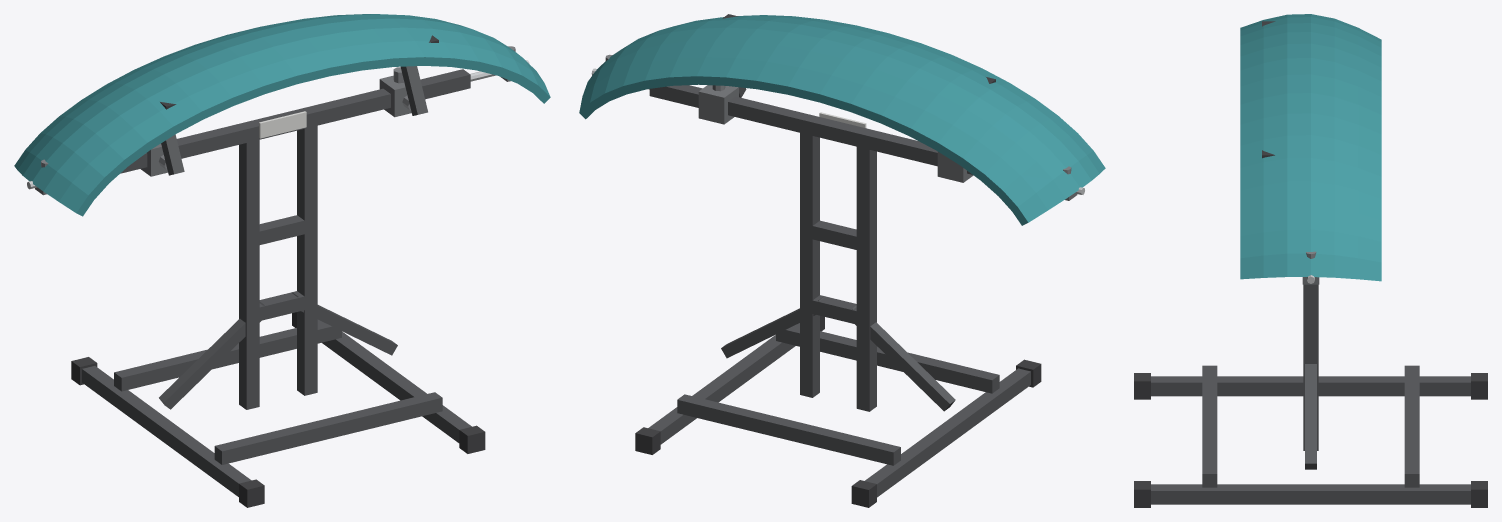
File: jig_bumper3.glb
The picture shows the model from 3 angles, left to right: view 1: azimuth 30°, elevation 25°; view 2: azimuth 150°, elevation 25°; view 3: azimuth 270°, elevation 25°; orthographic projection. The views are drawn at different scales.
Visible parts, largest first — view 1: part_31, part_8, part_9, part_14, part_7, part_0, part_6, part_3, part_12, part_13, part_11, part_10 (+6 smaller); view 2: part_31, part_8, part_14, part_9, part_6, part_0, part_7, part_3, part_12, part_13, part_21, part_11 (+4 smaller); view 3: part_31, part_3, part_0, part_6, part_7, part_9, part_13, part_1, part_2, part_4, part_5.
Boxes of the visible parts, <box> form: part_31: <box>14,14,550,216</box>; part_8: <box>239,140,259,409</box>; part_9: <box>297,125,317,395</box>; part_14: <box>120,69,470,173</box>; part_7: <box>214,392,442,464</box>; part_0: <box>82,366,251,496</box>; part_6: <box>114,321,341,391</box>; part_3: <box>317,319,471,442</box>; part_12: <box>159,301,264,409</box>; part_13: <box>292,292,397,355</box>; part_11: <box>253,215,310,246</box>; part_10: <box>253,291,310,322</box>; part_31: <box>579,15,1105,225</box>; part_8: <box>856,146,876,411</box>; part_14: <box>649,85,972,174</box>; part_9: <box>800,133,819,397</box>; part_6: <box>677,394,900,465</box>; part_0: <box>865,368,1030,497</box>; part_7: <box>776,325,999,393</box>; part_3: <box>648,323,799,444</box>; part_12: <box>852,305,955,411</box>; part_13: <box>721,296,824,358</box>; part_21: <box>698,85,738,124</box>; part_11: <box>806,220,856,249</box>; part_31: <box>1240,14,1381,281</box>; part_3: <box>1151,484,1470,504</box>; part_0: <box>1151,376,1470,396</box>; part_6: <box>1404,365,1419,487</box>; part_7: <box>1202,365,1217,487</box>; part_9: <box>1303,284,1318,450</box>; part_13: <box>1305,364,1316,469</box>; part_1: <box>1471,373,1487,399</box>; part_2: <box>1134,373,1150,399</box>; part_4: <box>1471,481,1487,507</box>; part_5: <box>1134,481,1150,507</box>.
Size of the model in its own units: 1.72 by 1.26 by 1.05.
